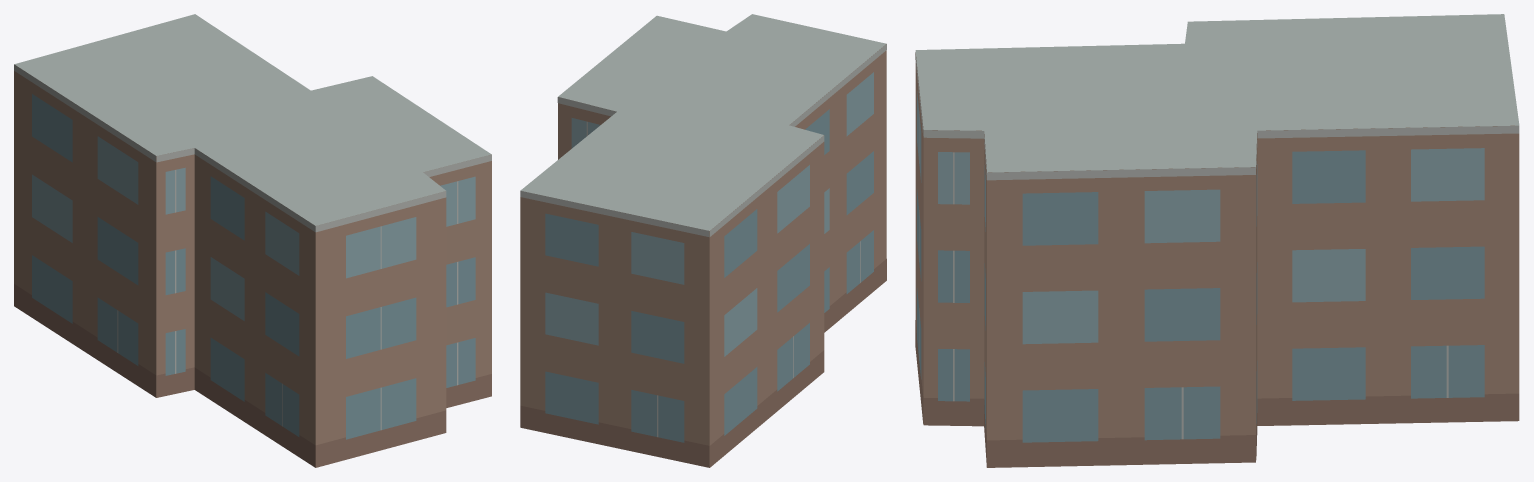
The model's file is survey-upis-32568066.glb.
The picture shows the model from 3 angles, left to right: view 1: azimuth 30°, elevation 25°; view 2: azimuth 150°, elevation 25°; view 3: azimuth 270°, elevation 25°; orthographic projection. The views are drawn at different scales.
Visible parts, largest first — view 1: survey-upis-32568066.tmp; view 2: survey-upis-32568066.tmp; view 3: survey-upis-32568066.tmp.
Boxes of the visible parts, left/top/right/bottom form: survey-upis-32568066.tmp: left=14, top=14, right=491, bottom=467; survey-upis-32568066.tmp: left=520, top=14, right=886, bottom=467; survey-upis-32568066.tmp: left=915, top=14, right=1519, bottom=467.
Size of the model in its own units: 10.54 by 9.15 by 16.97.
